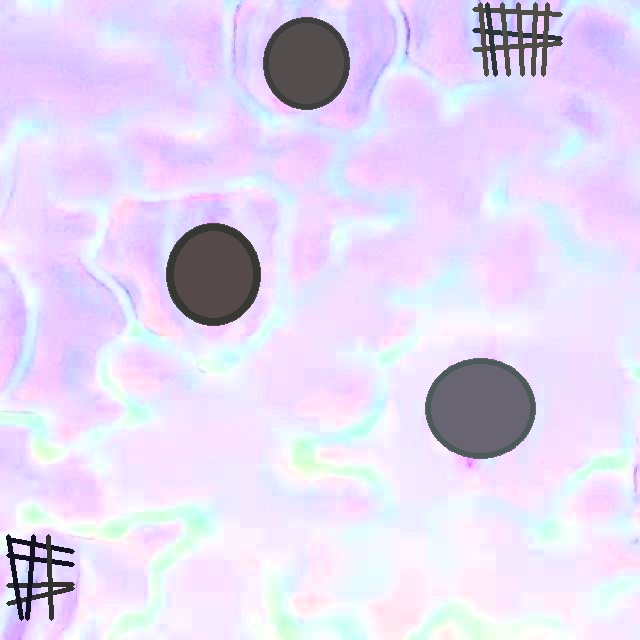close: (166, 223, 260, 325)
open: (425, 357, 535, 458), (263, 16, 349, 110), (472, 3, 562, 76), (6, 534, 74, 619)
